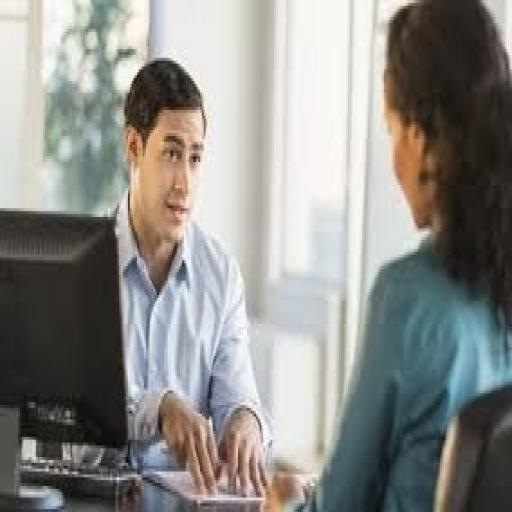sitting: (299, 0, 510, 509), (105, 55, 274, 497)
